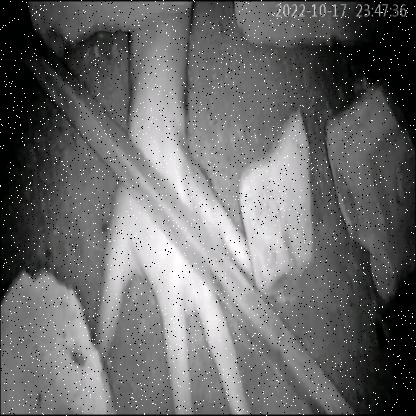hand: (67, 62, 284, 416)
